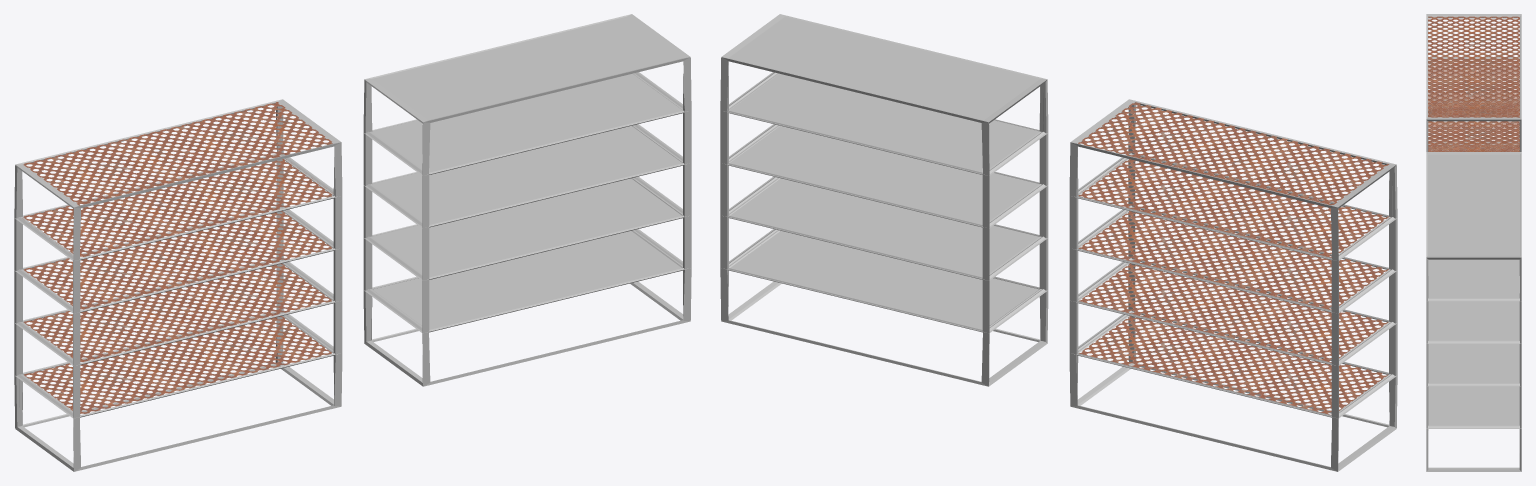
Rendered from shelves.fbx.
3 views of the same model, side by side, from view 1: azimuth 30°, elevation 25°; view 2: azimuth 150°, elevation 25°; view 3: azimuth 270°, elevation 25° (orthographic). The views are drawn at different scales.
Visible parts, largest first — view 1: woodshelf, metalshelf; view 2: woodshelf, metalshelf; view 3: woodshelf, metalshelf.
Part boxes in pixels (x1,y1,x2,y2): woodshelf: (363, 14, 691, 386); metalshelf: (14, 99, 342, 471); woodshelf: (720, 14, 1048, 386); metalshelf: (1069, 99, 1397, 471); woodshelf: (1426, 152, 1521, 471); metalshelf: (1426, 14, 1521, 151).
Bounding box in the file's own units: 1026 × 419 × 170.
